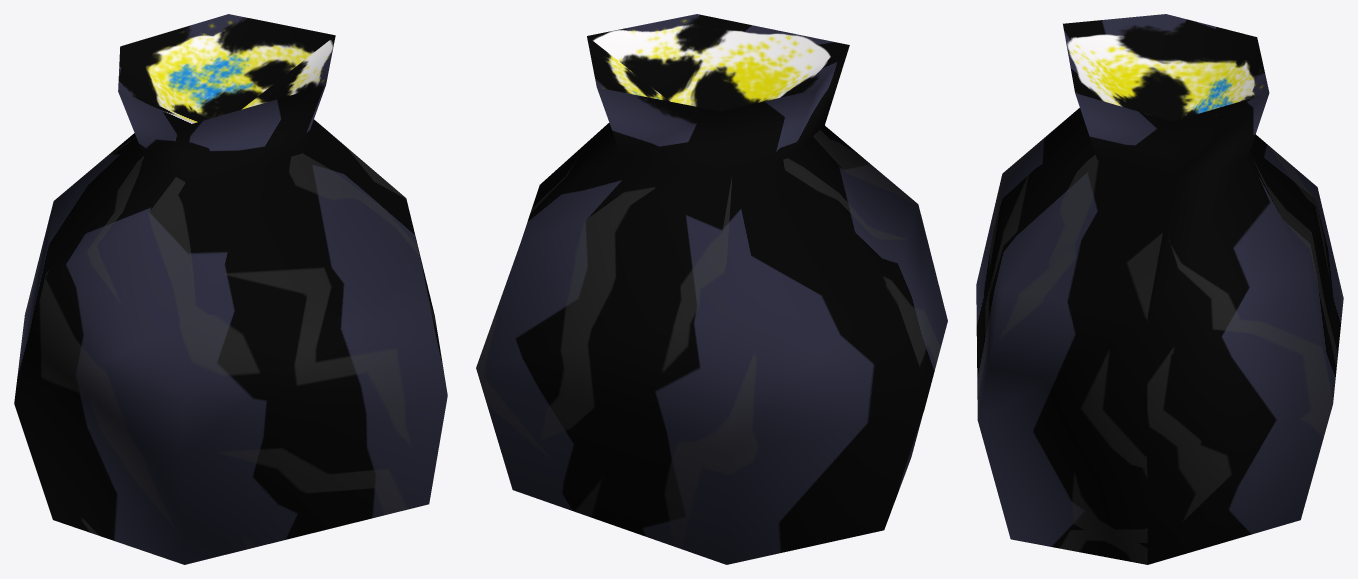
File: GarbageBag.fbx
3 views of the same model, side by side, from view 1: azimuth 30°, elevation 25°; view 2: azimuth 150°, elevation 25°; view 3: azimuth 270°, elevation 25° (orthographic). The views are drawn at different scales.
Visible parts, largest first — view 1: TODOS:bolsaBasura:basura1:pCylinder1; view 2: TODOS:bolsaBasura:basura1:pCylinder1; view 3: TODOS:bolsaBasura:basura1:pCylinder1.
Part boxes in pixels (left/top/right/bottom): TODOS:bolsaBasura:basura1:pCylinder1: left=14, top=14, right=447, bottom=564; TODOS:bolsaBasura:basura1:pCylinder1: left=476, top=14, right=947, bottom=564; TODOS:bolsaBasura:basura1:pCylinder1: left=976, top=14, right=1343, bottom=564.
Size of the model in its own units: 1.84 by 1.97 by 1.42.
